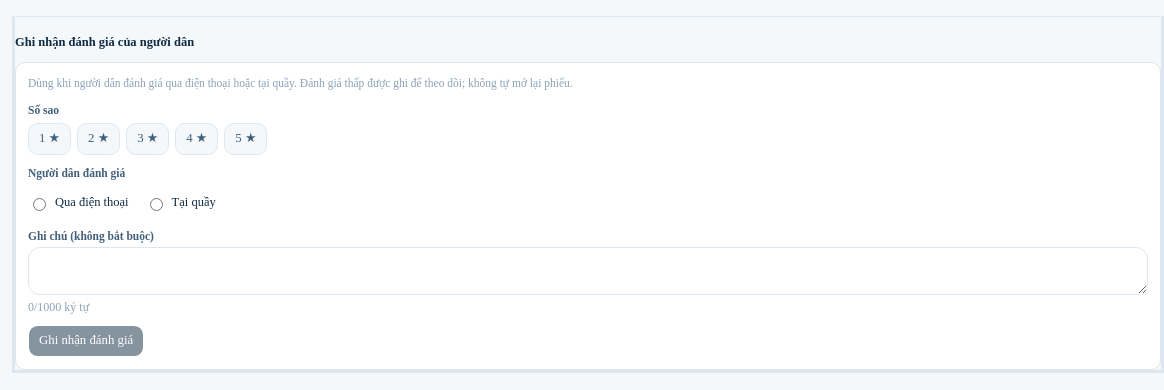
Test case: StaffRecordedRatingSection › submits stars, channel and the trimmed note, then hands the 200 body up
Expected: the button "Ghi nhận đánh giá" is disabled, [28,325,144,357]
Step 1. Click the button "4 ★" → {"x": 197, "y": 139}, box [175,123,218,155]
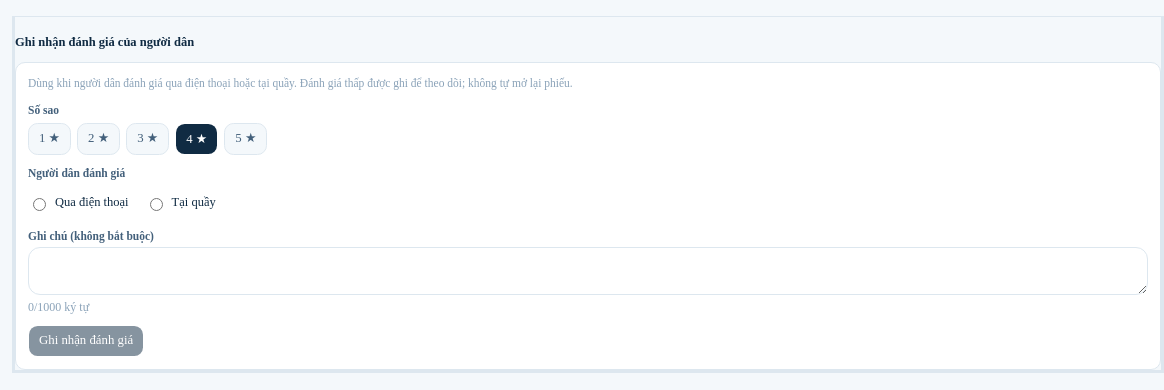
Expected: the button "Ghi nhận đánh giá" is disabled, [28,325,144,357]
Step 2. Click the radio button labelled "Qua điện thoại" → {"x": 40, "y": 204}, box [33,198,46,210]
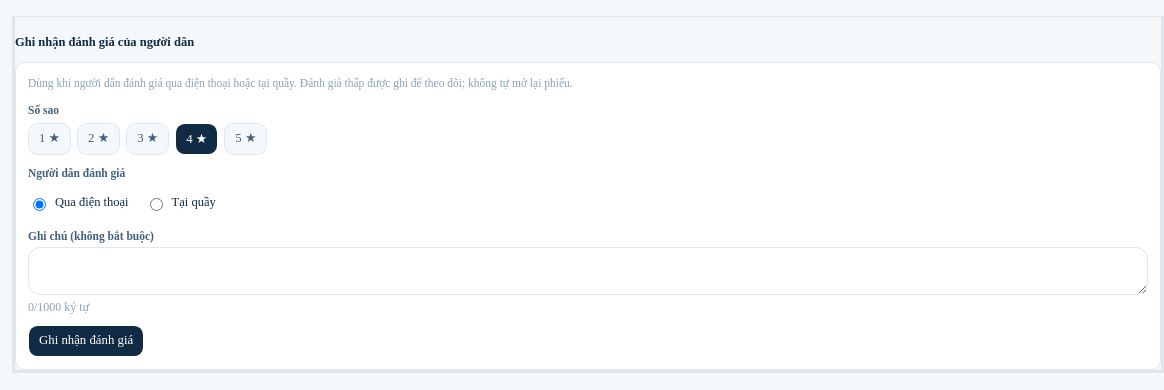
Expected: the button "Ghi nhận đánh giá" is enabled, [28,325,144,357]
